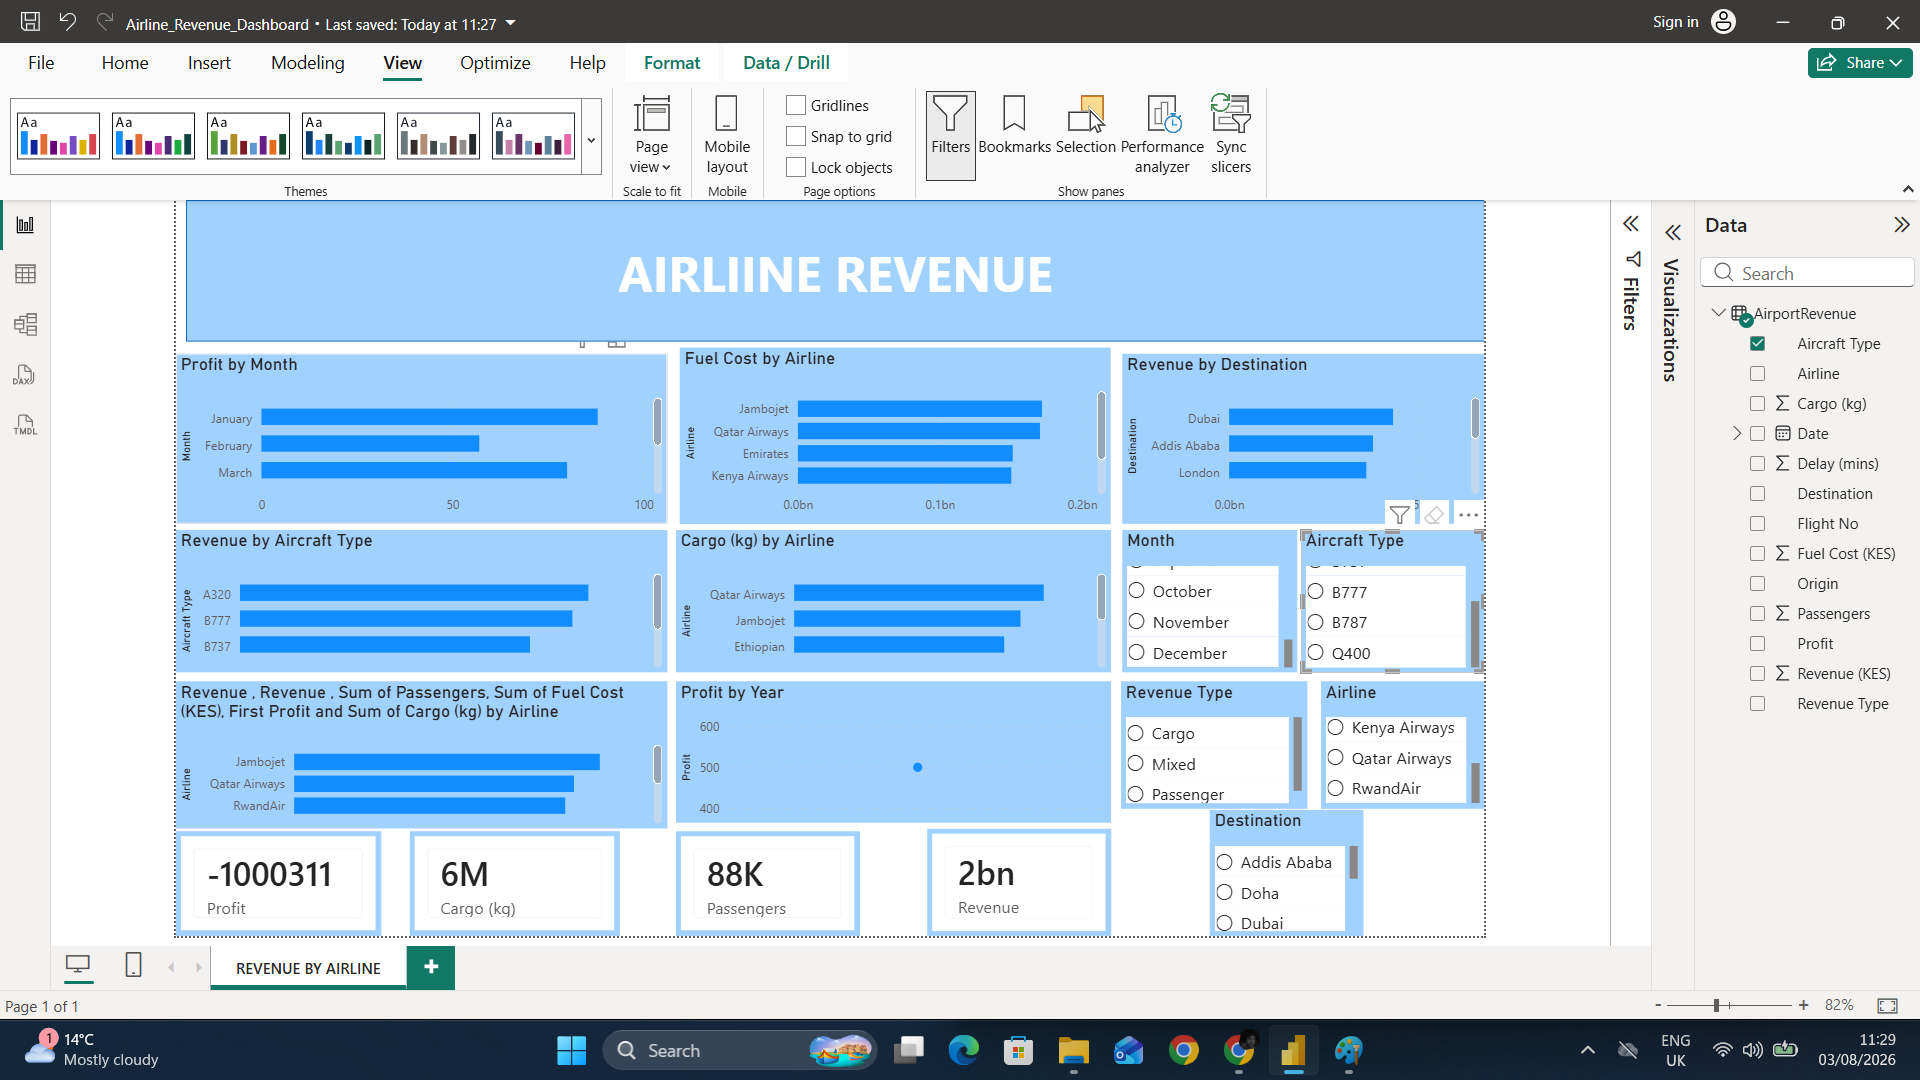

This screenshot's page, from the dashboard's own definition file:
{"tool":"powerbi","page":{"name":"REVENUE BY AIRLINE","canvas":[1280,720],"ordinal":0},"visuals":[{"type":"barChart","fields":{"Category":["AirportRevenue.Date.Variation.Date Hierarchy.Month"],"Y":["CountNonNull(AirportRevenue.Profit )"]},"box":[0,150.4,480.6,166.3],"z":0},{"type":"barChart","fields":{"Category":["AirportRevenue.Airline"],"Y":["Sum(AirportRevenue.Revenue (KES))"]},"box":[0,470.8,480.6,144.3],"z":1000},{"type":"barChart","fields":{"Category":["AirportRevenue.Aircraft Type"],"Y":["Sum(AirportRevenue.Revenue (KES))"]},"box":[0,322.8,480.6,139.4],"z":2000},{"type":"barChart","fields":{"Category":["AirportRevenue.Destination"],"Y":["Sum(AirportRevenue.Revenue (KES))"]},"box":[925.7,150.4,354.6,166.3],"z":3000},{"type":"barChart","fields":{"Category":["AirportRevenue.Airline"],"Y":["Sum(AirportRevenue.Fuel Cost (KES))"]},"box":[492.8,144.3,421.9,172.4],"z":4000},{"type":"barChart","fields":{"Category":["AirportRevenue.Airline"],"Y":["Sum(AirportRevenue.Cargo (kg))"]},"box":[489.1,322.8,425.5,139.4],"z":5000},{"type":"shape","box":[9.6,0,1270.7,138.6],"z":6000},{"type":"listSlicer","fields":{"Values":["AirportRevenue.Airline"]},"box":[1120.1,470.8,160.2,124.7],"z":7000},{"type":"listSlicer","fields":{"Values":["AirportRevenue.Destination"]},"box":[1011.3,596.7,150.4,123.5],"z":8000},{"type":"listSlicer","fields":{"Values":["AirportRevenue.Revenue Type"]},"box":[924.5,470.8,182.2,124.7],"z":9000},{"type":"listSlicer","fields":{"Values":["AirportRevenue.Aircraft Type"]},"box":[1100.5,322.8,179.8,139.4],"z":10000},{"type":"listSlicer","fields":{"Values":["AirportRevenue.Date.Variation.Date Hierarchy.Month"]},"box":[925.7,322.8,171.2,139.4],"z":11000},{"type":"cardVisual","fields":{"Data":["Sum(AirportRevenue.Revenue (KES))"]},"box":[734.9,615.1,179.8,105.2],"z":11001},{"type":"cardVisual","fields":{"Data":["Min(AirportRevenue.Profit )"]},"box":[0,617.5,200.5,102.7],"z":11002},{"type":"cardVisual","fields":{"Data":["Sum(AirportRevenue.Cargo (kg))"]},"box":[228.7,617.5,205.4,102.7],"z":11003},{"type":"cardVisual","fields":{"Data":["Sum(AirportRevenue.Passengers)"]},"box":[489.1,617.5,179.8,102.7],"z":11004},{"type":"lineChart","fields":{"Category":["AirportRevenue.Date.Variation.Date Hierarchy.Year","AirportRevenue.Date.Variation.Date Hierarchy.Month"],"Y":["CountNonNull(AirportRevenue.Profit )"]},"box":[489.1,470.8,425.5,138.2],"z":11005}]}

Visuals, with their boxes on the page's 1280x720 design canvas (x1, y1, x2, y2). These are canvas units, not pixel positions in the 1920x1080 screenshot, which may show the page scaled, cropped or inside an application window:
barChart - AirportRevenue.Date.Variation.Date Hierarchy.Month x CountNonNull(AirportRevenue.Profit ): [x1=0, y1=150, x2=481, y2=317]
barChart - AirportRevenue.Airline x Sum(AirportRevenue.Revenue (KES)): [x1=0, y1=471, x2=481, y2=615]
barChart - AirportRevenue.Aircraft Type x Sum(AirportRevenue.Revenue (KES)): [x1=0, y1=323, x2=481, y2=462]
barChart - AirportRevenue.Destination x Sum(AirportRevenue.Revenue (KES)): [x1=926, y1=150, x2=1280, y2=317]
barChart - AirportRevenue.Airline x Sum(AirportRevenue.Fuel Cost (KES)): [x1=493, y1=144, x2=915, y2=317]
barChart - AirportRevenue.Airline x Sum(AirportRevenue.Cargo (kg)): [x1=489, y1=323, x2=915, y2=462]
shape: [x1=10, y1=0, x2=1280, y2=139]
listSlicer - AirportRevenue.Airline: [x1=1120, y1=471, x2=1280, y2=596]
listSlicer - AirportRevenue.Destination: [x1=1011, y1=597, x2=1162, y2=720]
listSlicer - AirportRevenue.Revenue Type: [x1=924, y1=471, x2=1107, y2=596]
listSlicer - AirportRevenue.Aircraft Type: [x1=1100, y1=323, x2=1280, y2=462]
listSlicer - AirportRevenue.Date.Variation.Date Hierarchy.Month: [x1=926, y1=323, x2=1097, y2=462]
cardVisual - Sum(AirportRevenue.Revenue (KES)): [x1=735, y1=615, x2=915, y2=720]
cardVisual - Min(AirportRevenue.Profit ): [x1=0, y1=618, x2=200, y2=720]
cardVisual - Sum(AirportRevenue.Cargo (kg)): [x1=229, y1=618, x2=434, y2=720]
cardVisual - Sum(AirportRevenue.Passengers): [x1=489, y1=618, x2=669, y2=720]
lineChart - AirportRevenue.Date.Variation.Date Hierarchy.Year x AirportRevenue.Date.Variation.Date Hierarchy.Month: [x1=489, y1=471, x2=915, y2=609]
